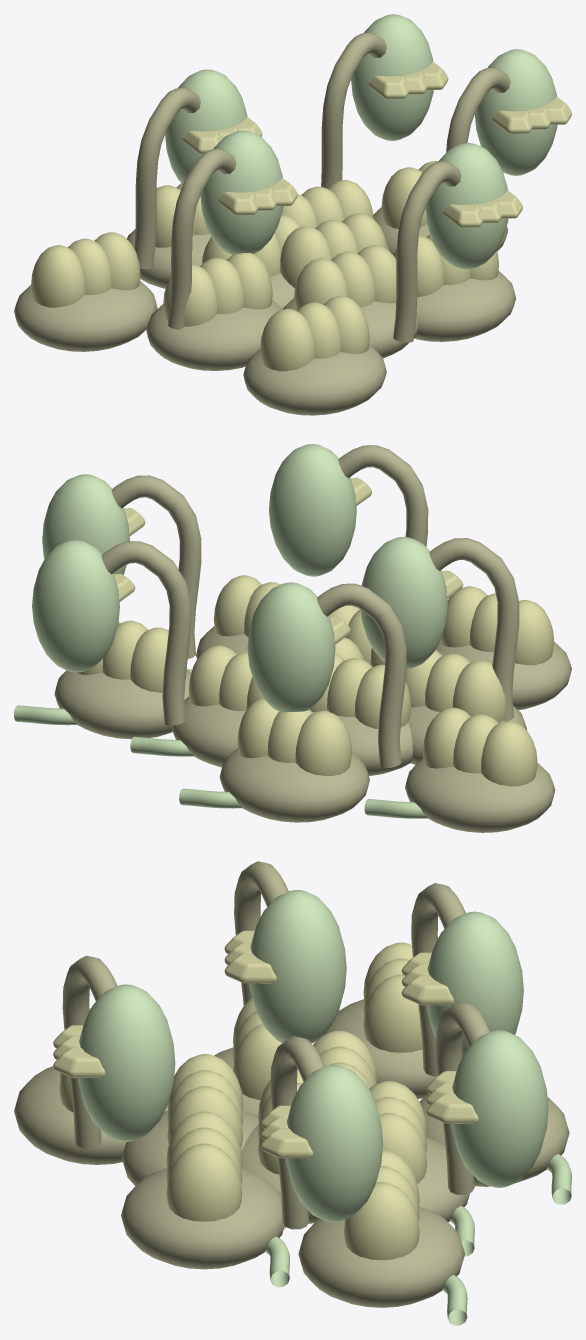
The model's file is bio_acid_mat_03_near.glb.
The picture shows the model from 3 angles, top to bottom: view 1: azimuth 30°, elevation 25°; view 2: azimuth 150°, elevation 25°; view 3: azimuth 270°, elevation 25°; orthographic projection. The views are drawn at different scales.
Parts seen in each view (by area): view 1: Microbial cushion.007, Microbial cushion.009, Pendant spore capsule.002, Pendant spore capsule.003, Pendant spore capsule.004, Pendant spore capsule, Reaction vesicle.027, Reaction vesicle.021, Microbial cushion.004, Microbial cushion.005, Reaction vesicle.012, Reaction vesicle.006 (+21 smaller); view 2: Pendant spore capsule.002, Pendant spore capsule.003, Pendant spore capsule.001, Microbial cushion.009, Microbial cushion.006, Pendant spore capsule.004, Reaction vesicle.027, Reaction vesicle.018, Microbial cushion.008, Arched fruit stem.003, Arched fruit stem.001, Pendant spore capsule (+19 smaller); view 3: Pendant spore capsule, Pendant spore capsule.002, Pendant spore capsule.003, Pendant spore capsule.004, Microbial cushion.005, Microbial cushion.008, Pendant spore capsule.001, Reaction vesicle.015, Reaction vesicle.024, Microbial cushion.007, Reaction vesicle.027, Reaction vesicle.006 (+23 smaller).
Part boxes in pixels (left/top/right/bottom): Microbial cushion.007: left=243, top=344, right=386, bottom=415; Microbial cushion.009: left=14, top=281, right=157, bottom=351; Pendant spore capsule.002: left=425, top=143, right=508, bottom=269; Pendant spore capsule.003: left=351, top=14, right=433, bottom=140; Pendant spore capsule.004: left=200, top=130, right=283, bottom=254; Pendant spore capsule: left=475, top=49, right=557, bottom=175; Reaction vesicle.027: left=31, top=232, right=140, bottom=307; Reaction vesicle.021: left=260, top=296, right=369, bottom=371; Microbial cushion.004: left=146, top=300, right=282, bottom=370; Microbial cushion.005: left=414, top=271, right=515, bottom=341; Reaction vesicle.012: left=163, top=253, right=272, bottom=326; Reaction vesicle.006: left=294, top=245, right=396, bottom=310; Pendant spore capsule.002: left=269, top=444, right=356, bottom=576; Pendant spore capsule.003: left=32, top=540, right=119, bottom=672; Pendant spore capsule.001: left=247, top=582, right=335, bottom=712; Microbial cushion.009: left=405, top=758, right=555, bottom=832; Microbial cushion.006: left=219, top=748, right=369, bottom=822; Pendant spore capsule.004: left=360, top=537, right=447, bottom=669; Reaction vesicle.027: left=423, top=707, right=537, bottom=786; Reaction vesicle.018: left=237, top=698, right=351, bottom=775; Microbial cushion.008: left=54, top=669, right=191, bottom=739; Arched fruit stem.003: left=101, top=541, right=191, bottom=725; Arched fruit stem.001: left=317, top=583, right=406, bottom=768; Pendant spore capsule: left=42, top=474, right=129, bottom=574; Pendant spore capsule: left=285, top=1065, right=382, bottom=1222; Pendant spore capsule.002: left=78, top=984, right=175, bottom=1141; Pendant spore capsule.003: left=451, top=1030, right=548, bottom=1187; Pendant spore capsule.004: left=249, top=890, right=346, bottom=1043; Microbial cushion.005: left=121, top=1168, right=284, bottom=1269; Microbial cushion.008: left=298, top=1206, right=464, bottom=1307; Pendant spore capsule.001: left=426, top=911, right=523, bottom=1056; Reaction vesicle.015: left=166, top=1111, right=242, bottom=1221; Reaction vesicle.024: left=344, top=1150, right=419, bottom=1260; Microbial cushion.007: left=14, top=1066, right=167, bottom=1164; Reaction vesicle.027: left=363, top=942, right=422, bottom=1052; Reaction vesicle.006: left=167, top=1054, right=242, bottom=1148.
Bounding box in the file's own units: 1.9 × 0.7645 × 1.47.
